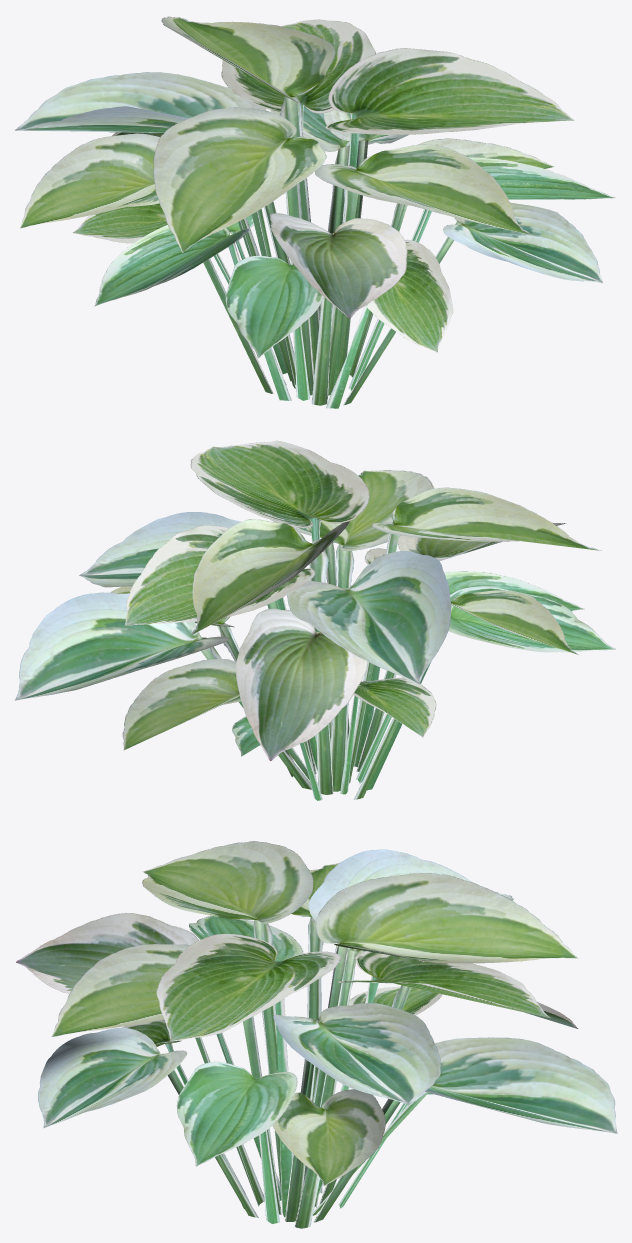
Rendered from plant_small_wg_00U.fbx.
3 views of the same model, one above another, from view 1: azimuth 30°, elevation 25°; view 2: azimuth 150°, elevation 25°; view 3: azimuth 270°, elevation 25° (orthographic). The views are drawn at different scales.
Parts seen in each view (by area): view 1: plant_small_wg_00U; view 2: plant_small_wg_00U; view 3: plant_small_wg_00U.
Part boxes in pixels (left/top/right/bottom): plant_small_wg_00U: left=15, top=16, right=615, bottom=408; plant_small_wg_00U: left=14, top=440, right=615, bottom=800; plant_small_wg_00U: left=16, top=841, right=617, bottom=1228.
Bounding box in the file's own units: 96.81 × 55.98 × 96.25.
1 material, 1 textured.
